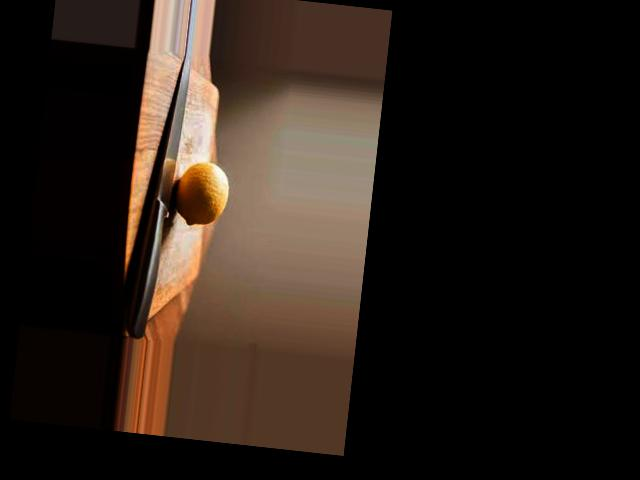lemon: (171, 151, 235, 233)
